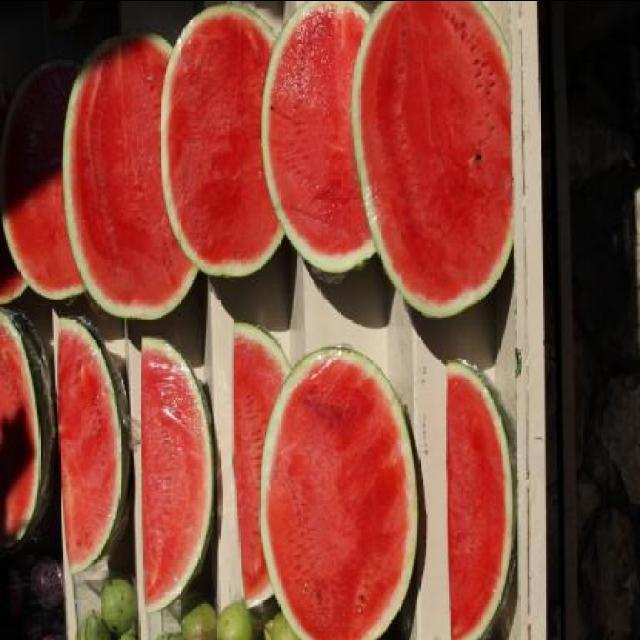Watermelon: (0, 2, 515, 640)
